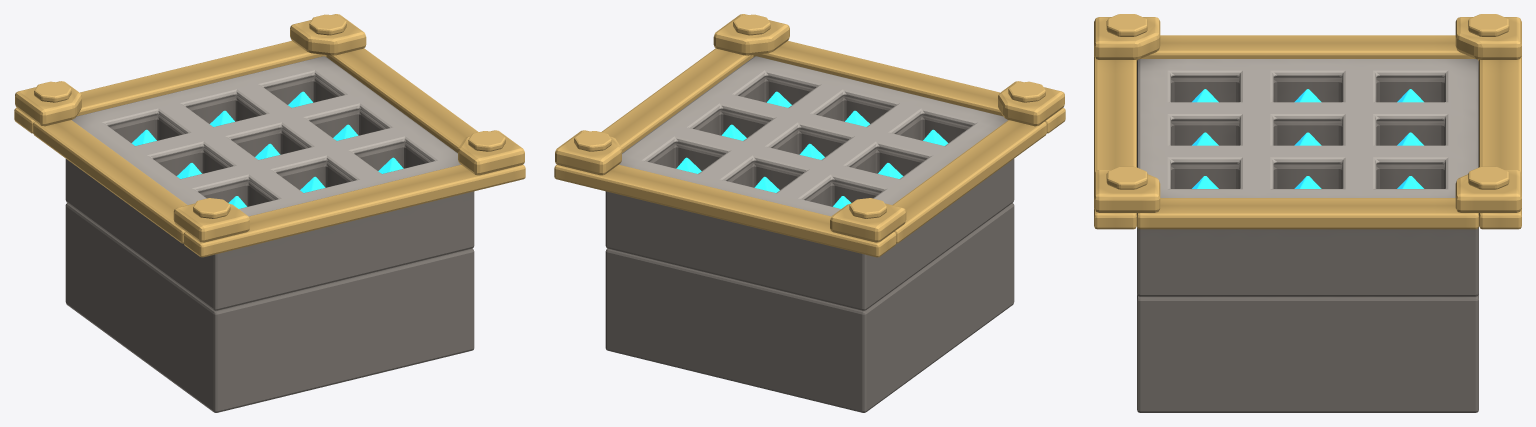
Rendered from board_spikes_1.glb.
3 renders of one model, left to right at view 1: azimuth 30°, elevation 25°; view 2: azimuth 150°, elevation 25°; view 3: azimuth 270°, elevation 25°, orthographic. The views are drawn at different scales.
Visible parts, largest first — view 1: BaseFloor, Base, Plate, Gold1, Gold3, Gold0, Gold2, Bolt3, Bolt0, Bolt2, Bolt1, BoltT0 (+3 smaller); view 2: BaseFloor, Base, Plate, Gold0, Gold3, Gold1, Gold2, Bolt1, Bolt2, Bolt0, Bolt3, BoltT2 (+3 smaller); view 3: BaseFloor, Base, Plate, Gold2, Gold3, Gold0, Gold1, Bolt0, Bolt2, Bolt1, Bolt3, BoltT0 (+3 smaller).
Part boxes in pixels (bbox=[...]): BaseFloor: bbox=[65, 203, 474, 412]; Base: bbox=[65, 77, 474, 310]; Plate: bbox=[72, 56, 460, 216]; Gold1: bbox=[183, 164, 525, 257]; Gold3: bbox=[33, 120, 187, 243]; Gold0: bbox=[14, 41, 326, 133]; Gold2: bbox=[326, 48, 478, 152]; Bolt3: bbox=[173, 203, 249, 242]; Bolt0: bbox=[290, 14, 366, 55]; Bolt2: bbox=[458, 130, 524, 175]; Bolt1: bbox=[15, 81, 81, 126]; BoltT0: bbox=[309, 14, 346, 35]; BaseFloor: bbox=[605, 203, 1014, 412]; Base: bbox=[605, 77, 1014, 310]; Plate: bbox=[619, 56, 1007, 216]; Gold0: bbox=[554, 164, 896, 257]; Gold3: bbox=[892, 120, 1046, 243]; Gold1: bbox=[753, 41, 1065, 133]; Gold2: bbox=[601, 48, 753, 152]; Bolt1: bbox=[830, 203, 906, 242]; Bolt2: bbox=[713, 14, 789, 55]; Bolt0: bbox=[555, 130, 621, 175]; Bolt3: bbox=[998, 81, 1064, 126]; BoltT2: bbox=[733, 14, 770, 35]; BaseFloor: bbox=[1137, 294, 1478, 412]; Base: bbox=[1137, 77, 1478, 296]; Plate: bbox=[1137, 59, 1478, 197]; Gold2: bbox=[1137, 198, 1478, 229]; Gold3: bbox=[1137, 35, 1478, 60]; Gold0: bbox=[1479, 55, 1521, 229]; Gold1: bbox=[1094, 55, 1136, 229]; Bolt0: bbox=[1455, 170, 1521, 212]; Bolt2: bbox=[1094, 170, 1160, 212]; Bolt1: bbox=[1455, 17, 1521, 59]; Bolt3: bbox=[1094, 17, 1160, 59]; BoltT0: bbox=[1468, 166, 1509, 189].
Size of the model in its own units: 1 by 0.6287 by 1.
